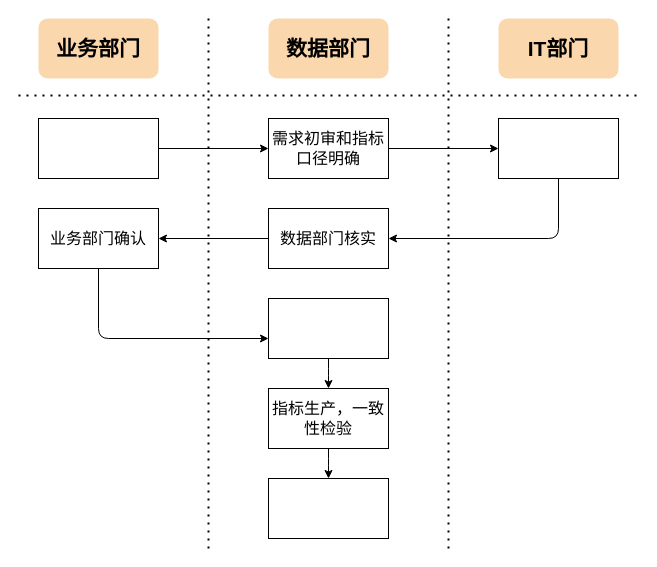
Image size: 657x567. Some labels were removed from this diagram. Here are the shapes that lost their labels. From the top down, the centre of each, then its label:
At point (98, 148): "业务指标需求提出".
At point (558, 148): "技术信息补充".
At point (328, 328): "数据部门领导审批".
At point (328, 508): "指标发布".
